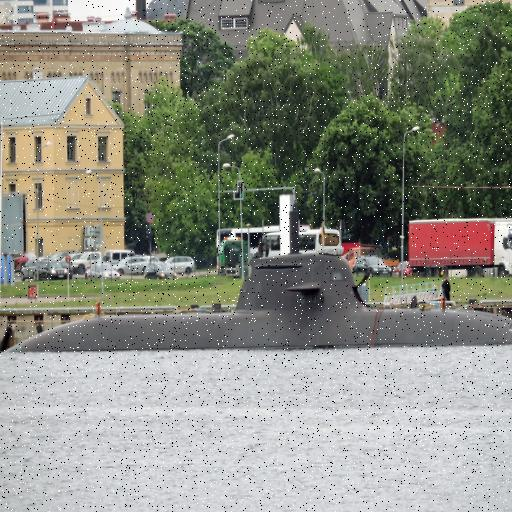submarine: (4, 256, 512, 355)
